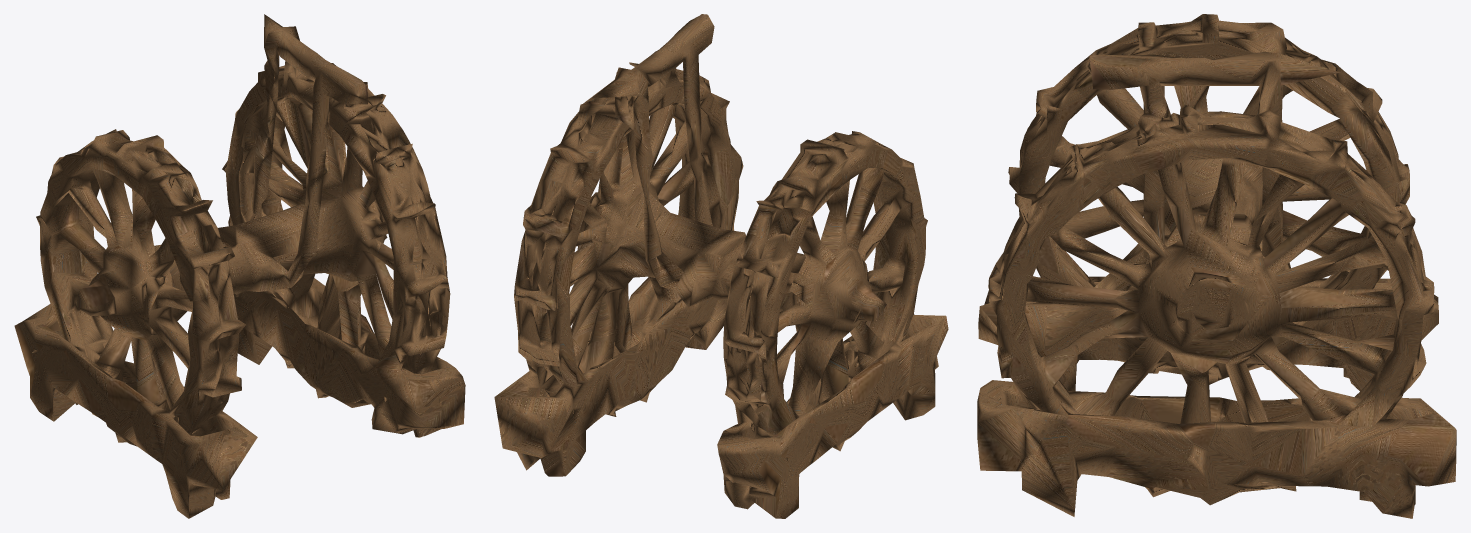
File: ninja_runner_port_ninjaWaterWheel.glb
The picture shows the model from 3 angles, left to right: view 1: azimuth 30°, elevation 25°; view 2: azimuth 150°, elevation 25°; view 3: azimuth 270°, elevation 25°; orthographic projection. The views are drawn at different scales.
Bounding box in the file's own units: 1.67 × 1.89 × 1.87.
1 material, 1 textured.
